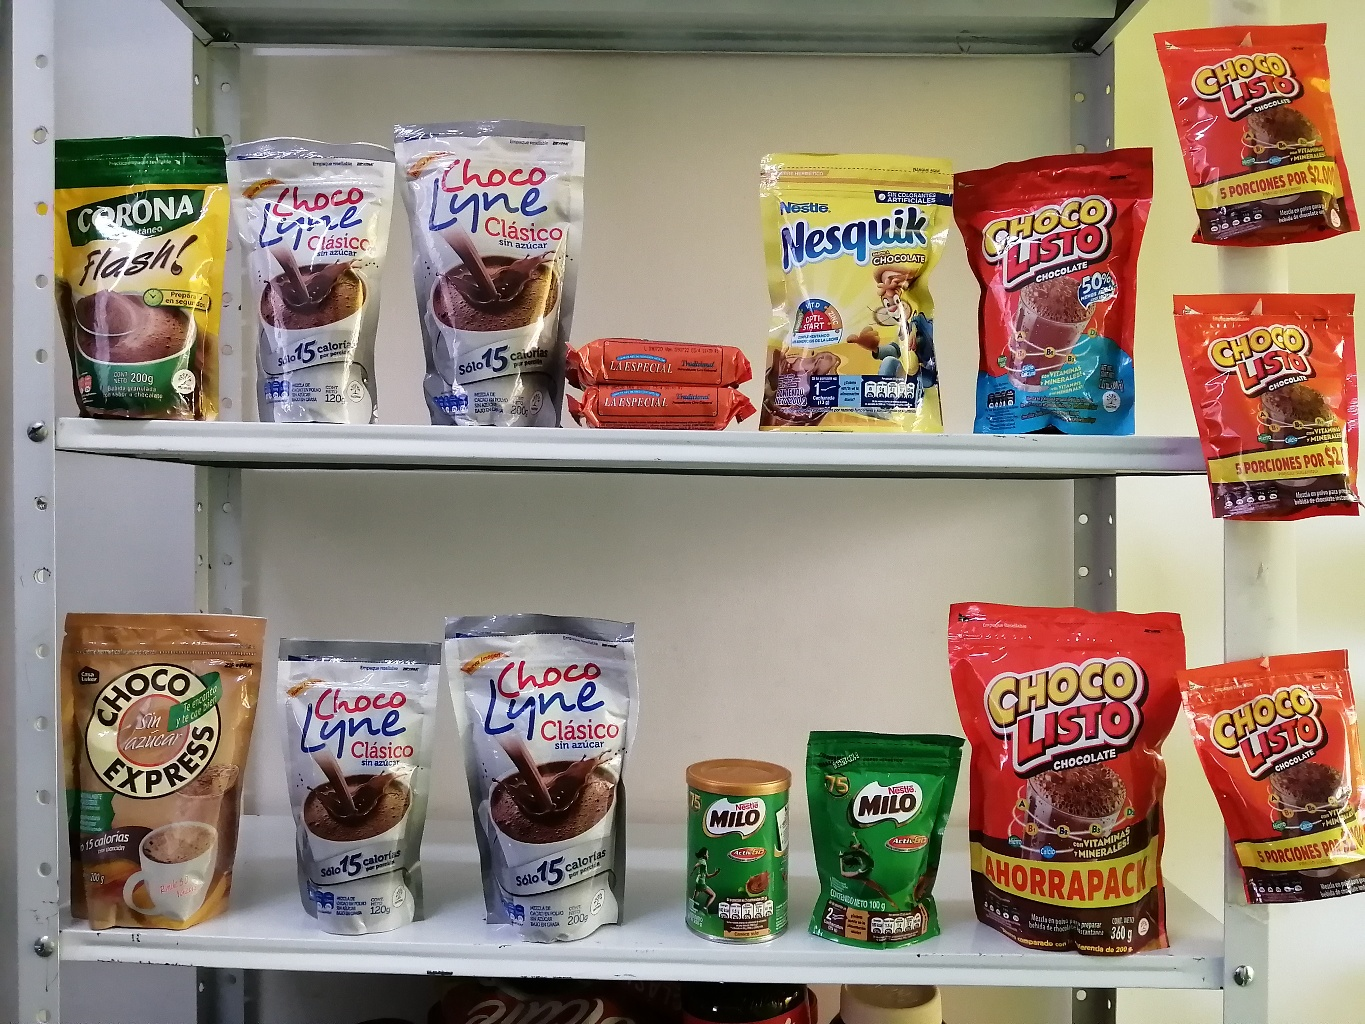COL0170103DYP36000: (947, 591, 1176, 944)
COL0170104DYP20000: (949, 142, 1165, 437)
COL0170203DYP10000: (814, 726, 957, 952)
COL0170203LAT20000: (664, 744, 792, 940)
COL0170306DYP20000: (760, 142, 949, 424)
